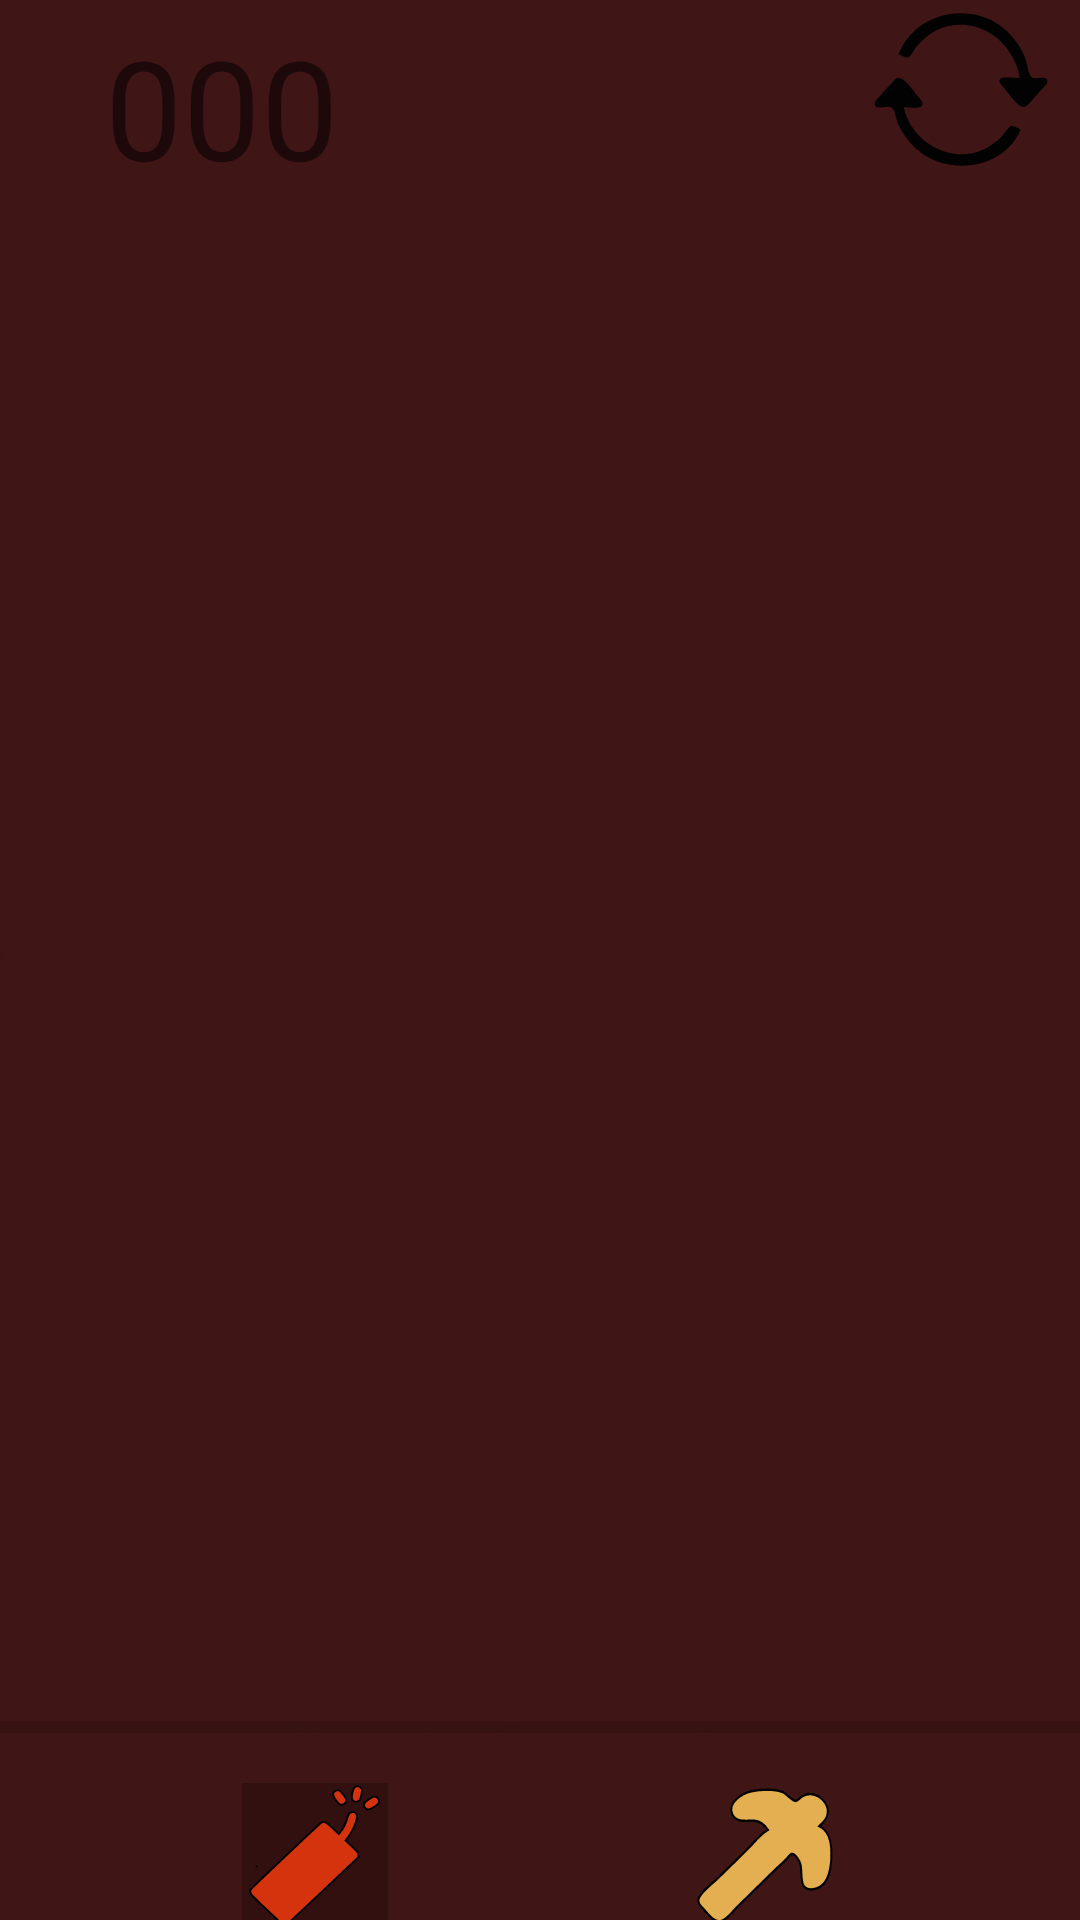

Locate icon controls on the screen. Image size 1080px×1920px, boxes as [x1,y1,x2,y2].
dynamite: [242,1783,388,1920]
picaxe: [697,1788,833,1920]
restart: [875,13,1047,166]
